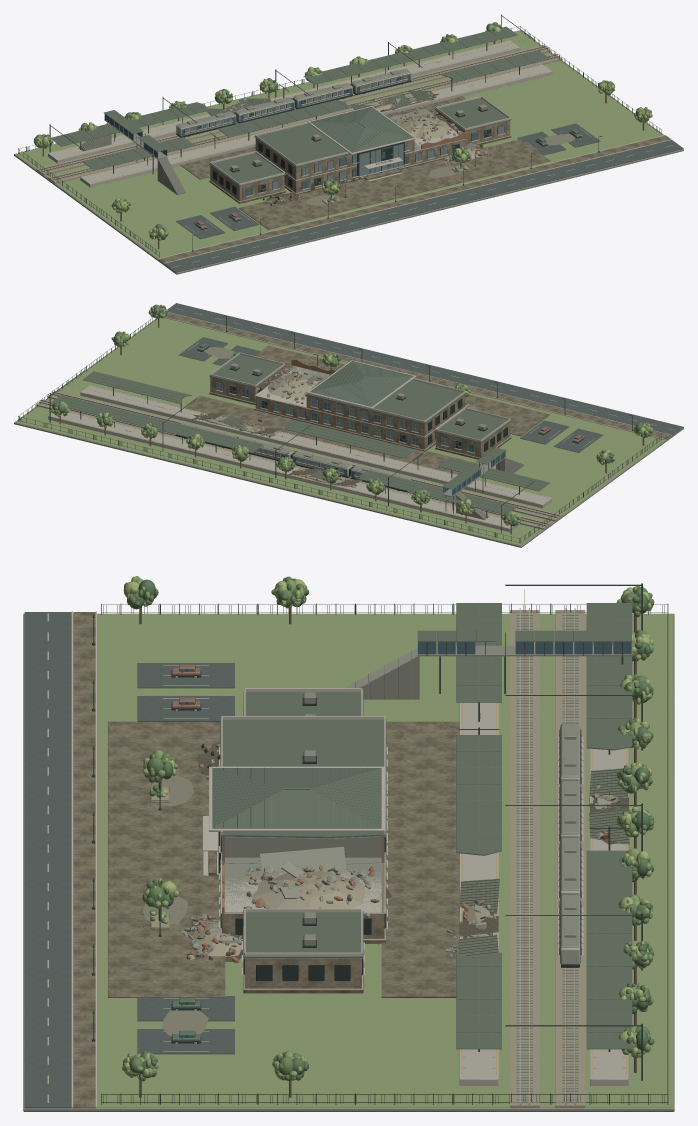
The model's file is railway-abandoned.glb.
The picture shows the model from 3 angles, top to bottom: view 1: azimuth 30°, elevation 25°; view 2: azimuth 150°, elevation 25°; view 3: azimuth 270°, elevation 25°; orthographic projection. The views are drawn at different scales.
Parts seen in each view (by area): view 1: 材质批次_grass, 材质批次_sage_metal_roof, 材质批次_plaza_paving, 材质批次_asphalt, 材质批次_railway_platform, 材质批次_poi_service_concrete, 材质批次_warm_cream_trim, 材质批次_planter_gravel, 材质批次_limestone, 材质批次_recess_shadow, 材质批次_street_metal, 材质批次_window_frames (+17 smaller); view 2: 材质批次_grass, 材质批次_sage_metal_roof, 材质批次_railway_platform, 材质批次_asphalt, 材质批次_plaza_paving, 材质批次_warm_cream_trim, 材质批次_poi_service_concrete, 材质批次_limestone, 材质批次_street_metal, 材质批次_planter_gravel, 材质批次_recess_shadow, 材质批次_railway_tactile (+13 smaller); view 3: 材质批次_grass, 材质批次_sage_metal_roof, 材质批次_plaza_paving, 材质批次_asphalt, 材质批次_poi_service_concrete, 材质批次_planter_gravel, 材质批次_warm_cream_trim, 材质批次_street_metal, 材质批次_railway_platform, 材质批次_leaf_1, 材质批次_standing_seam, 材质批次_limestone (+12 smaller).
Part boxes in pixels (bbox=[...]): 材质批次_grass: bbox=[15, 30, 663, 258]; 材质批次_sage_metal_roof: bbox=[50, 26, 549, 186]; 材质批次_plaza_paving: bbox=[158, 96, 670, 263]; 材质批次_asphalt: bbox=[165, 123, 683, 272]; 材质批次_railway_platform: bbox=[48, 40, 552, 187]; 材质批次_poi_service_concrete: bbox=[14, 30, 683, 274]; 材质批次_warm_cream_trim: bbox=[48, 40, 671, 263]; 材质批次_planter_gravel: bbox=[36, 45, 562, 203]; 材质批次_limestone: bbox=[210, 109, 510, 204]; 材质批次_recess_shadow: bbox=[176, 74, 581, 229]; 材质批次_street_metal: bbox=[18, 14, 661, 257]; 材质批次_window_frames: bbox=[184, 75, 504, 196]; 材质批次_grass: bbox=[15, 317, 664, 545]; 材质批次_sage_metal_roof: bbox=[50, 354, 549, 514]; 材质批次_railway_platform: bbox=[48, 385, 552, 531]; 材质批次_asphalt: bbox=[167, 303, 683, 452]; 材质批次_plaza_paving: bbox=[165, 312, 671, 474]; 材质批次_warm_cream_trim: bbox=[48, 312, 671, 528]; 材质批次_poi_service_concrete: bbox=[14, 319, 683, 547]; 材质批次_limestone: bbox=[210, 366, 510, 457]; 材质批次_street_metal: bbox=[18, 315, 661, 543]; 材质批次_planter_gravel: bbox=[36, 369, 562, 529]; 材质批次_recess_shadow: bbox=[176, 346, 584, 492]; 材质批次_railway_tactile: bbox=[54, 386, 545, 526]; 材质批次_grass: bbox=[73, 613, 672, 1107]; 材质批次_sage_metal_roof: bbox=[212, 603, 632, 1049]; 材质批次_plaza_paving: bbox=[73, 612, 459, 1108]; 材质批次_asphalt: bbox=[24, 612, 234, 1108]; 材质批次_poi_service_concrete: bbox=[23, 612, 674, 1111]; 材质批次_planter_gravel: bbox=[151, 610, 613, 1108]; 材质批次_warm_cream_trim: bbox=[71, 611, 628, 1107]; 材质批次_street_metal: bbox=[92, 583, 668, 1104]; 材质批次_railway_platform: bbox=[459, 702, 628, 1085]; 材质批次_leaf_1: bbox=[113, 576, 654, 1081]; 材质批次_standing_seam: bbox=[212, 603, 622, 1047]; 材质批次_limestone: bbox=[150, 787, 384, 988].
Bounding box in the file's own units: 180 × 12.97 × 100.
38 materials, 5 textured.
